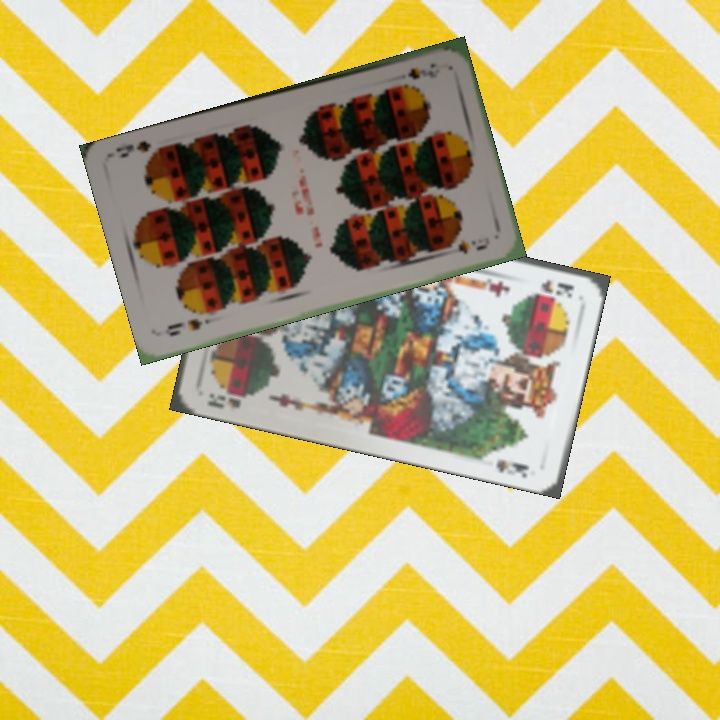S9: (163, 315, 205, 339), (404, 59, 443, 82)
SK: (203, 386, 258, 411), (537, 275, 577, 301)
